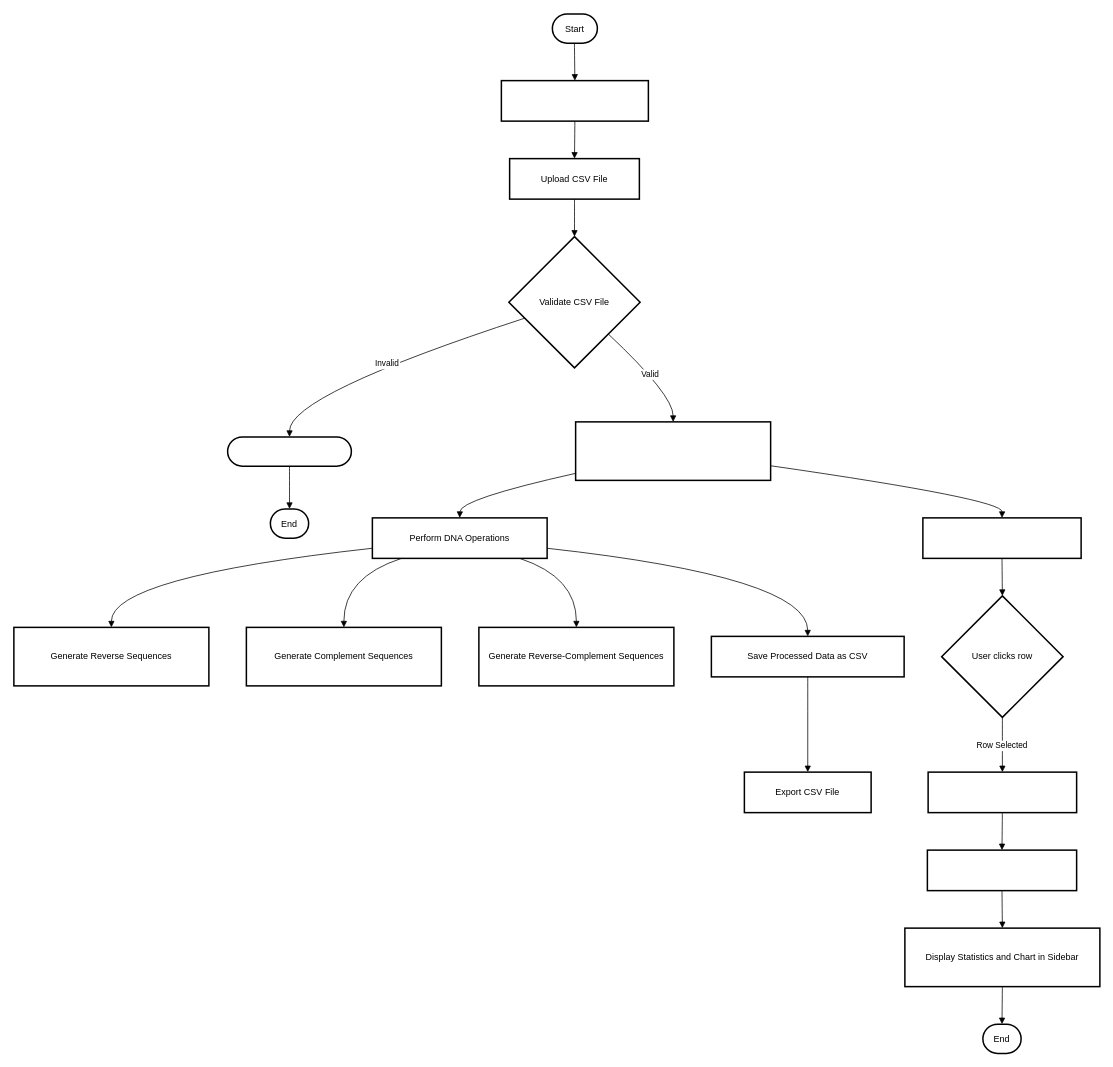
This 1113x1067 diagram has some shape labels left out. The centre of each missing label's shape, as x and y in pixels:
Calculate Statistics: the point at 1002,792
Display DNA Sequences in Table: the point at 672,451
Generate Bar Chart: the point at 1001,870
Launch Application: the point at 574,101
Select DNA Sequence: the point at 1002,538
Show Error Message: the point at 289,451
